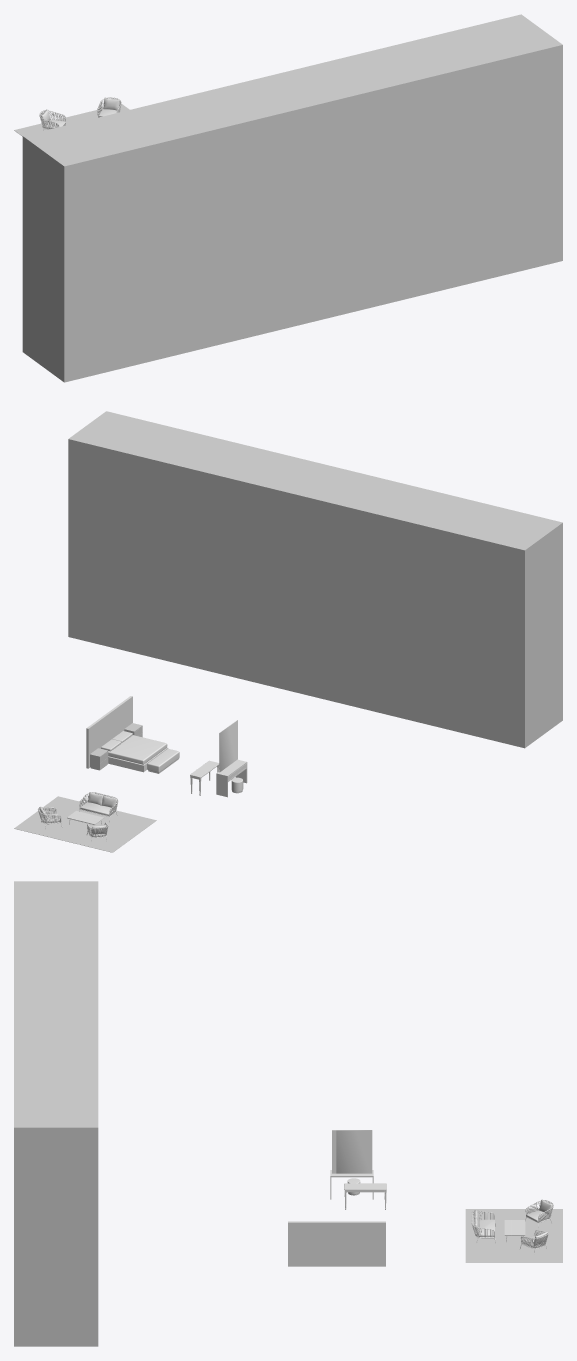
File: RB05__Storey__FirstFloor__ProposedFurniture__MeshModel__.glb
3 views of the same model, one above another, from view 1: azimuth 30°, elevation 25°; view 2: azimuth 150°, elevation 25°; view 3: azimuth 270°, elevation 25° (orthographic). The views are drawn at different scales.
Parts seen in each view (by area): view 1: 28__ProposedBuilding__Furniture::Default; view 2: 28__ProposedBuilding__Furniture::Default, 28__ProposedBuilding__Furniture::MAT000E__Generic__Grey, 28__ProposedBuilding__Furniture::MAT140__Mirror__ClearDefaul; view 3: 28__ProposedBuilding__Furniture::Default, 28__ProposedBuilding__Furniture::MAT000E__Generic__Grey, 28__ProposedBuilding__Furniture::MAT140__Mirror__ClearDefaul.
Boxes of the visible parts, box(x1,y1,x2,y2) form: 28__ProposedBuilding__Furniture::Default: box(14, 14, 562, 382); 28__ProposedBuilding__Furniture::Default: box(14, 411, 562, 852); 28__ProposedBuilding__Furniture::MAT000E__Generic__Grey: box(67, 696, 247, 824); 28__ProposedBuilding__Furniture::MAT140__Mirror__ClearDefaul: box(219, 720, 237, 772); 28__ProposedBuilding__Furniture::Default: box(14, 881, 562, 1346); 28__ProposedBuilding__Furniture::MAT000E__Generic__Grey: box(288, 1170, 525, 1266); 28__ProposedBuilding__Furniture::MAT140__Mirror__ClearDefaul: box(332, 1130, 372, 1173).
Size of the model in its own units: 20.34 by 8.43 by 19.15.
Materials: 3 (1 with a texture image).
